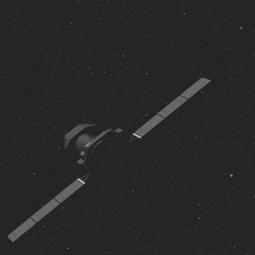xmm_newton: (46, 87, 181, 203)
